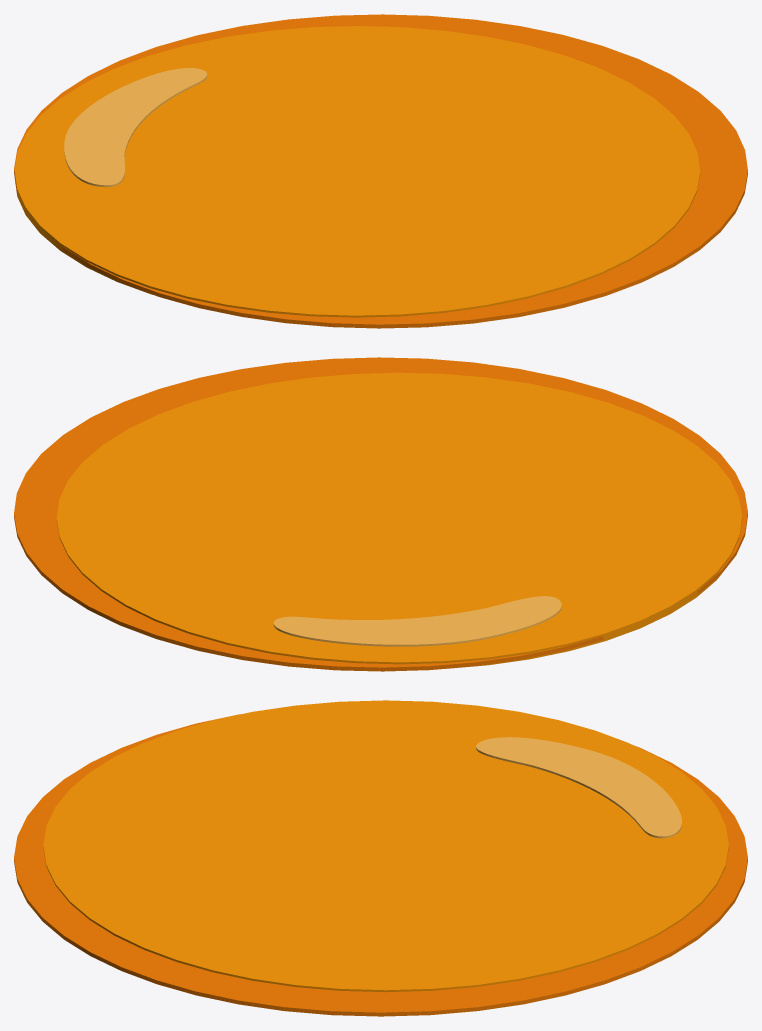
File: emoji_u1f7e0.glb
3 renders of one model, top to bottom at view 1: azimuth 30°, elevation 25°; view 2: azimuth 150°, elevation 25°; view 3: azimuth 270°, elevation 25°, orthographic.
Parts seen in each view (by area): view 1: emoji_u1f7e0; view 2: emoji_u1f7e0; view 3: emoji_u1f7e0.
Boxes of the visible parts, box(x1,y1,x2,y2) form: emoji_u1f7e0: box(14, 14, 747, 328); emoji_u1f7e0: box(14, 357, 747, 671); emoji_u1f7e0: box(14, 700, 747, 1016).
Bounding box in the file's own units: 0.0339 × 0.0006 × 0.0339.
